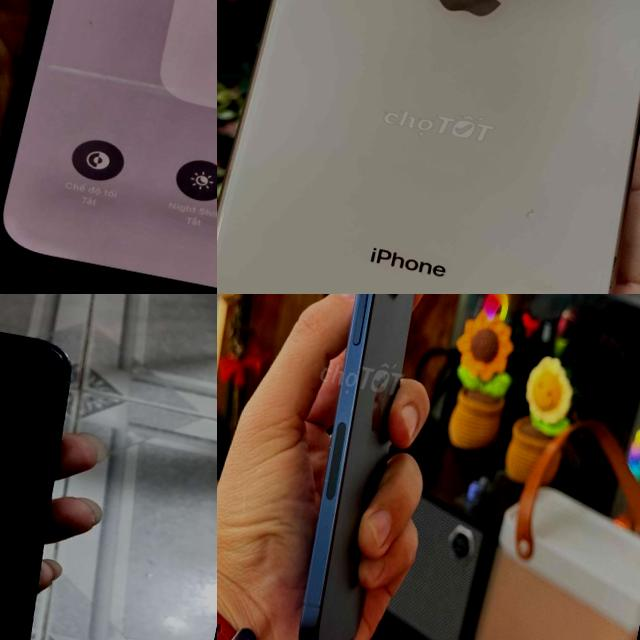scratch: (326, 441, 334, 452), (322, 474, 330, 484), (332, 494, 337, 500)
